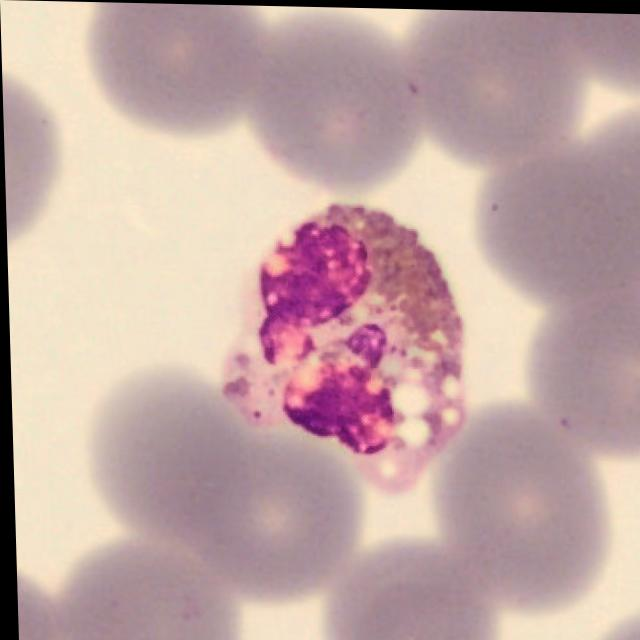Eosinofilo: (218, 204, 464, 496)
